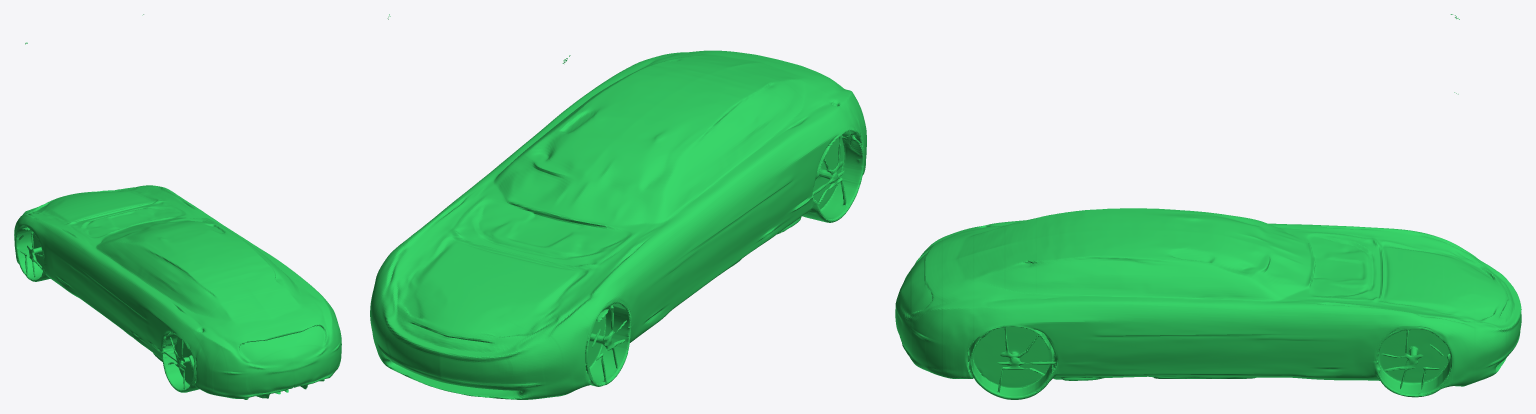
The model's file is car_01.glb.
3 renders of one model, left to right at view 1: azimuth 30°, elevation 25°; view 2: azimuth 150°, elevation 25°; view 3: azimuth 270°, elevation 25°, orthographic. The views are drawn at different scales.
Visible parts, largest first — view 1: world; view 2: world; view 3: world.
Part boxes in pixels (left/top/right/bottom): world: left=14, top=14, right=341, bottom=399; world: left=370, top=14, right=866, bottom=399; world: left=895, top=14, right=1521, bottom=399.
Size of the model in its own units: 0.719 by 1.04 by 1.96.
